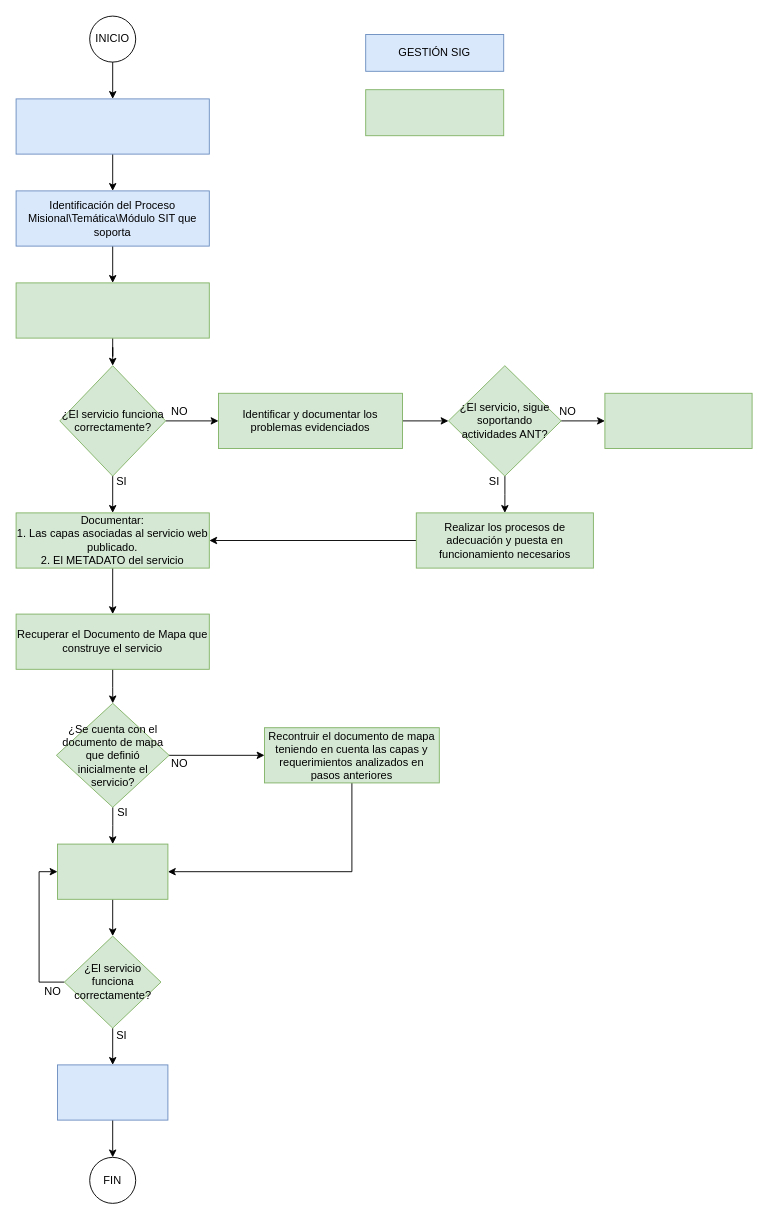
Image size: 768x1220. Some labels were removed from this diagram. The shapes that lost their labels are listed below. From the top down, each one's centre as x and y in pixels, then its label:
At (x=112, y=126): "Actualización del Inventario de Servicios SIG".
At (x=434, y=112): "ASOCIADO AL PROCESO DE MIGRACIÓN DOMINIO".
At (x=112, y=310): "Revisión del servicio dentro de las plataformas SIG en los ambientes respectivos".
At (x=678, y=420): "Eliminar el servicio de las plataformas geográficas".
At (x=112, y=871): "Republicar el servicio bajo el nuevo dominio ANT".
At (x=112, y=1092): "Actualizar inventario de servicios y METADATO".
